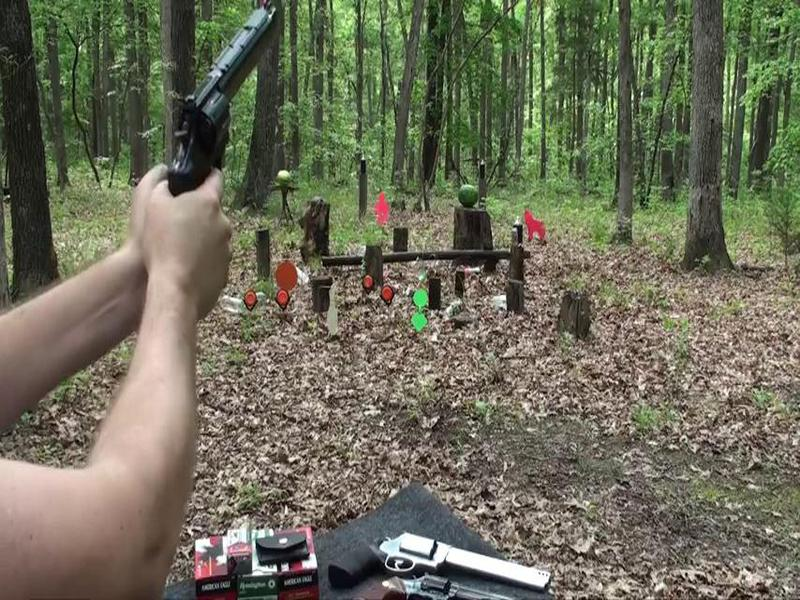Revolver: (146, 1, 293, 199)
